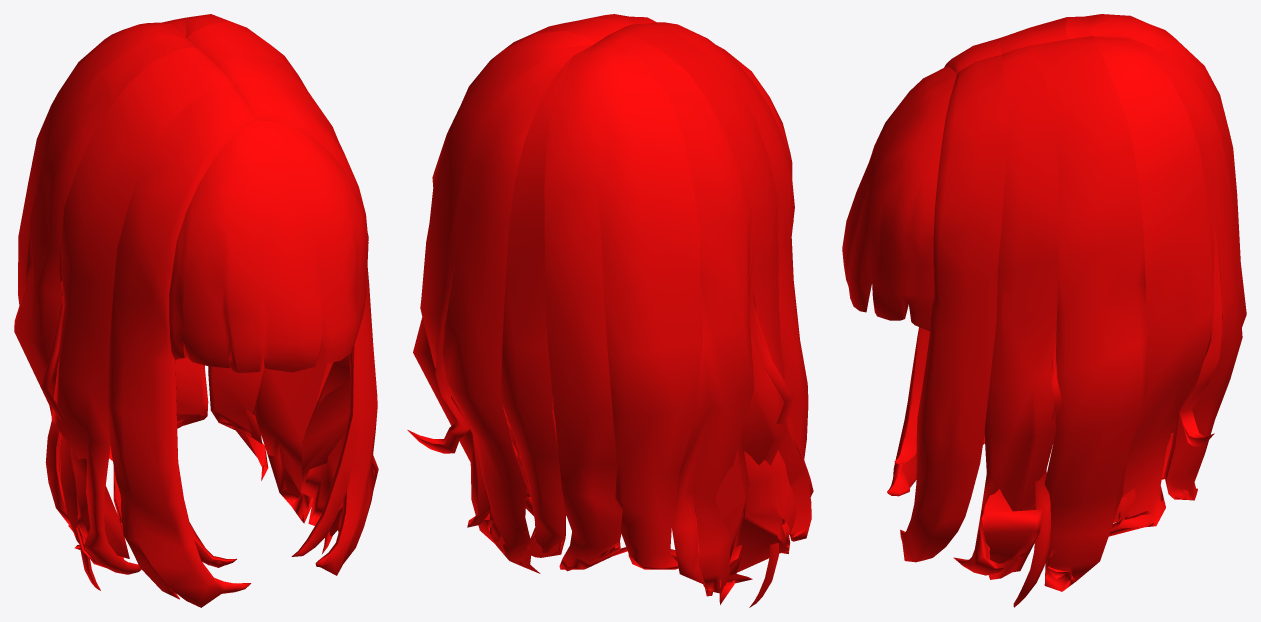
Rendered from culturalibre_hair_18_F.glb.
3 views of the same model, side by side, from view 1: azimuth 30°, elevation 25°; view 2: azimuth 150°, elevation 25°; view 3: azimuth 270°, elevation 25° (orthographic). The views are drawn at different scales.
Size of the model in its own units: 0.2434 by 0.3763 by 0.2605.
1 material, 1 textured.
